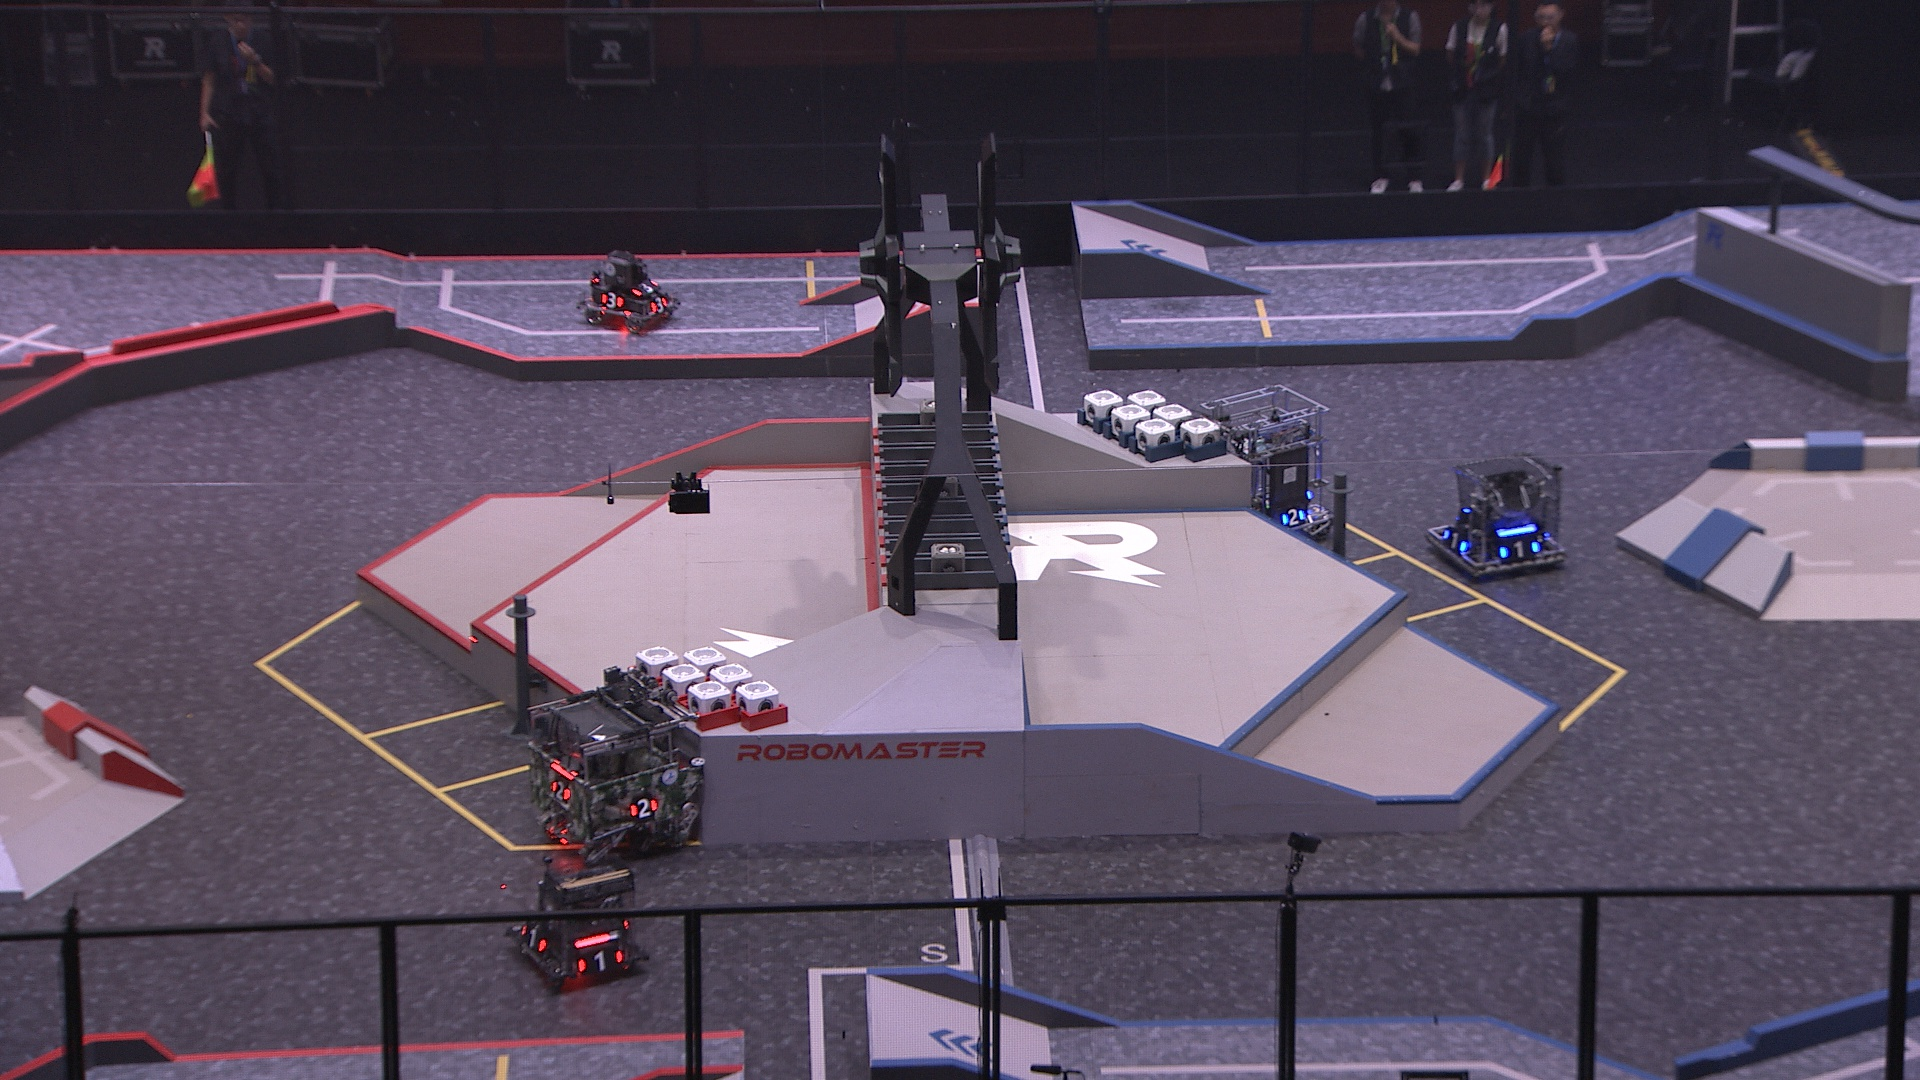armor: (574, 949, 624, 978), (1491, 537, 1542, 564), (514, 920, 550, 953), (1439, 527, 1472, 556), (628, 793, 662, 820), (547, 774, 575, 803), (626, 278, 661, 297), (1280, 504, 1307, 527), (647, 294, 670, 318), (596, 290, 622, 309)
car: (524, 678, 708, 872), (1199, 385, 1331, 543), (1423, 455, 1569, 582), (512, 860, 650, 992), (582, 244, 680, 335)
